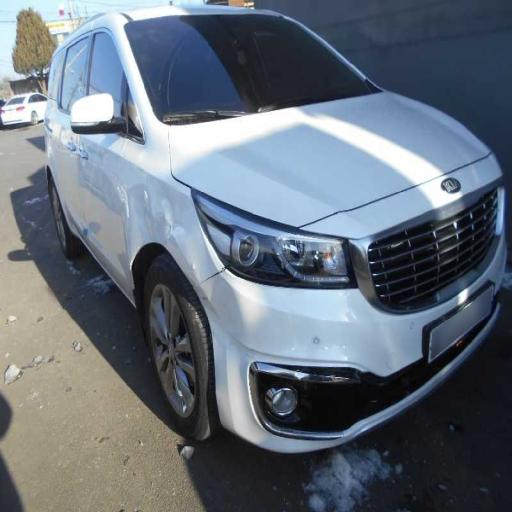dent: (113, 171, 209, 295)
scratch: (298, 316, 336, 380)
